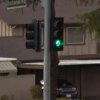Traffic light: (20, 7, 69, 59)
